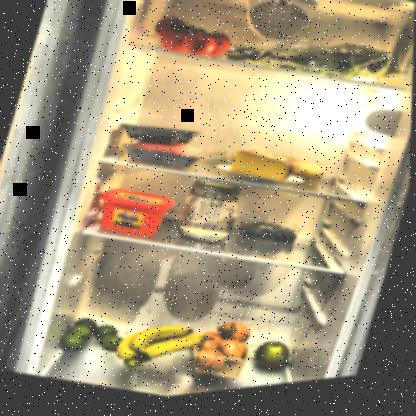apple: (254, 337, 303, 383)
banana: (113, 312, 212, 391)
blueberries: (233, 212, 306, 262)
butter: (90, 179, 179, 250)
cheese: (221, 144, 304, 201)
green_beans: (218, 34, 297, 85)
ground_beef: (117, 130, 208, 184)
lime: (59, 310, 135, 370)
onion: (184, 314, 263, 392)
potato: (266, 150, 332, 199)
spinach: (276, 30, 399, 107)
tomato: (141, 7, 245, 78)
